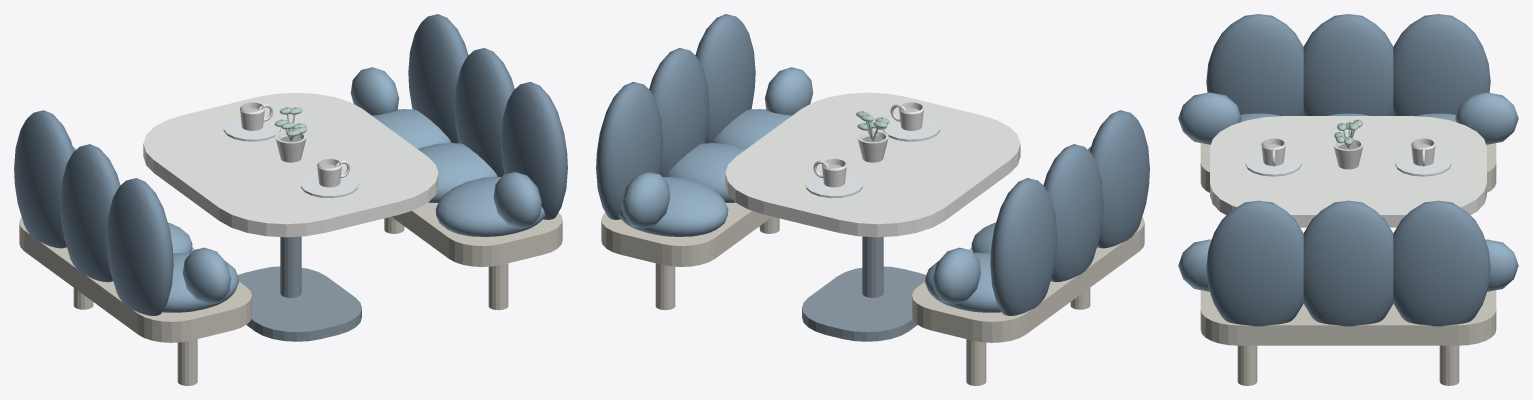
File: restaurant_booth_set.glb
The picture shows the model from 3 angles, left to right: view 1: azimuth 30°, elevation 25°; view 2: azimuth 150°, elevation 25°; view 3: azimuth 270°, elevation 25°; orthographic projection. The views are drawn at different scales.
Parts seen in each view (by area): view 1: decor_354d66_fabric, decor_d8dcd8_matte, decor_476a8a_fabric, decor_aaa493_matte, decor_455665_metal, decor_d4dfe3_matte, decor_729986_matte; view 2: decor_354d66_fabric, decor_d8dcd8_matte, decor_476a8a_fabric, decor_aaa493_matte, decor_455665_metal, decor_d4dfe3_matte, decor_729986_matte; view 3: decor_354d66_fabric, decor_d8dcd8_matte, decor_aaa493_matte, decor_476a8a_fabric, decor_d4dfe3_matte, decor_729986_matte.
Boxes of the visible parts, x1=… form: decor_354d66_fabric: x1=14, y1=14, x2=567, y2=315; decor_d8dcd8_matte: x1=143, y1=92, x2=438, y2=237; decor_476a8a_fabric: x1=73, y1=67, x2=545, y2=312; decor_aaa493_matte: x1=19, y1=108, x2=562, y2=385; decor_455665_metal: x1=238, y1=236, x2=361, y2=341; decor_d4dfe3_matte: x1=223, y1=116, x2=358, y2=198; decor_729986_matte: x1=274, y1=107, x2=306, y2=140; decor_354d66_fabric: x1=596, y1=14, x2=1149, y2=315; decor_d8dcd8_matte: x1=725, y1=92, x2=1020, y2=237; decor_476a8a_fabric: x1=618, y1=67, x2=1090, y2=312; decor_aaa493_matte: x1=601, y1=108, x2=1144, y2=385; decor_455665_metal: x1=802, y1=236, x2=925, y2=341; decor_d4dfe3_matte: x1=805, y1=116, x2=940, y2=198; decor_729986_matte: x1=856, y1=111, x2=889, y2=140; decor_354d66_fabric: x1=1206, y1=14, x2=1490, y2=326; decor_d8dcd8_matte: x1=1210, y1=116, x2=1486, y2=227; decor_aaa493_matte: x1=1200, y1=143, x2=1496, y2=385; decor_476a8a_fabric: x1=1178, y1=92, x2=1518, y2=291; decor_d4dfe3_matte: x1=1245, y1=152, x2=1451, y2=176; decor_729986_matte: x1=1334, y1=119, x2=1362, y2=148.
Size of the model in its own units: 2.6 by 1.2 by 1.82.
